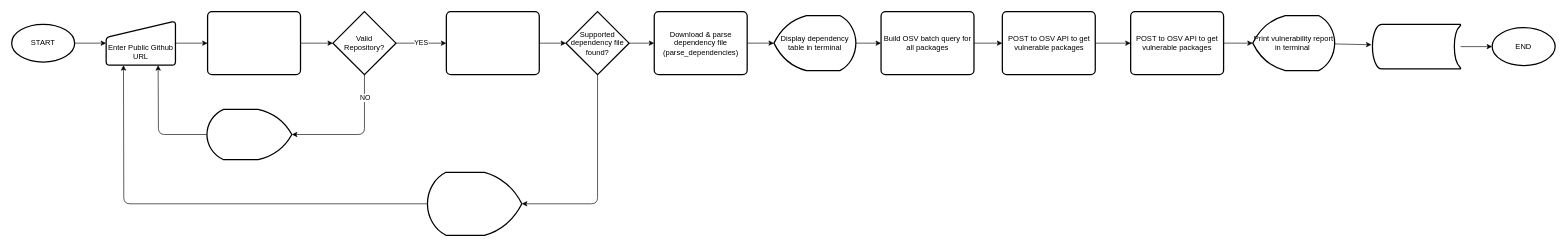
Some shapes in this 1566 by 246 pixel diagram are drawn without their labels. The shapes that lost their labels are listed below. From the top down, each one's centre as x and y in pixels, then its label:
(254,43): Validate URL format + check github API (validate_repository_link)
(492,43): Fetch root file listing with Github API (fetch_repository_metadata)
(1416,46): Save output.json
(249,134): Error: "Invalid URL / Private repo"
(474,203): Error: "No dependencies file found"
